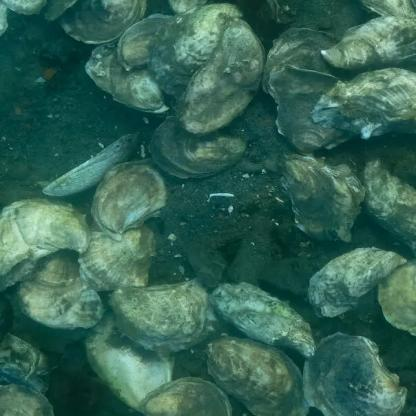Oyster- Indeterminate: (177, 15, 267, 134), (58, 0, 147, 47), (117, 14, 174, 71)
Oyster-Closed: (148, 4, 244, 97), (86, 311, 173, 413), (303, 332, 407, 416), (0, 198, 91, 293), (110, 277, 219, 353), (207, 336, 310, 416), (268, 66, 358, 156), (210, 282, 317, 357), (277, 154, 365, 239), (312, 67, 416, 138), (17, 250, 104, 330), (308, 247, 406, 318), (92, 158, 172, 241), (263, 28, 354, 94), (86, 42, 169, 113), (150, 117, 246, 178), (320, 15, 416, 73), (79, 224, 156, 291), (360, 158, 416, 247), (139, 377, 233, 416), (0, 327, 52, 395), (378, 258, 416, 335), (0, 384, 53, 416), (360, 0, 416, 22), (46, 0, 77, 21), (0, 1, 8, 36)
